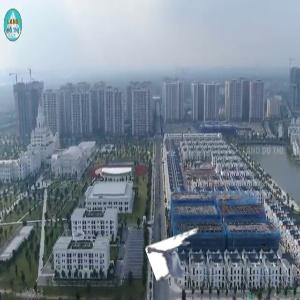drone: (154, 234, 218, 298)
